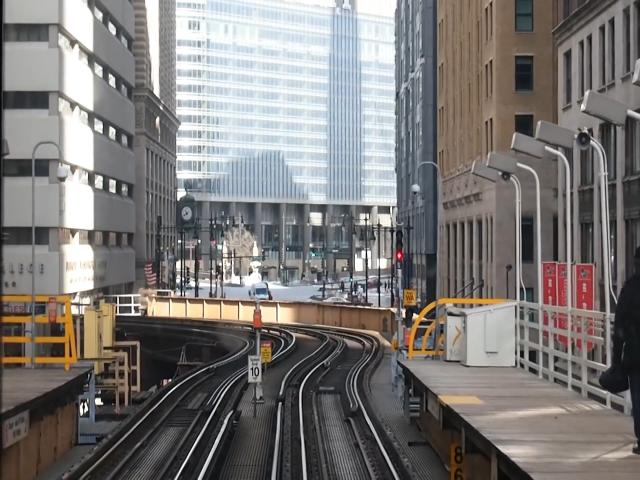signal light: (395, 228, 405, 273)
